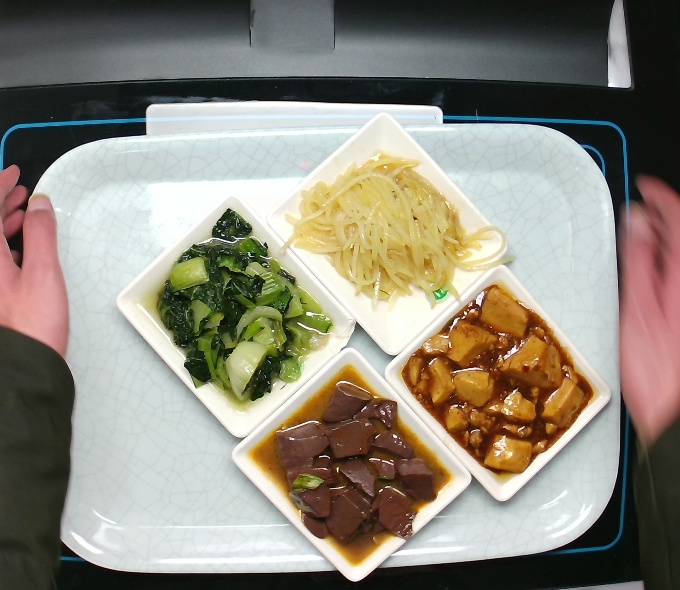wcq-MaPoDouFu: (410, 289, 591, 482)
wcq-NiuXue: (271, 391, 426, 554)
wcq-TuDouSi: (295, 159, 478, 302)
wcq-YouDongCai: (154, 218, 317, 410)
